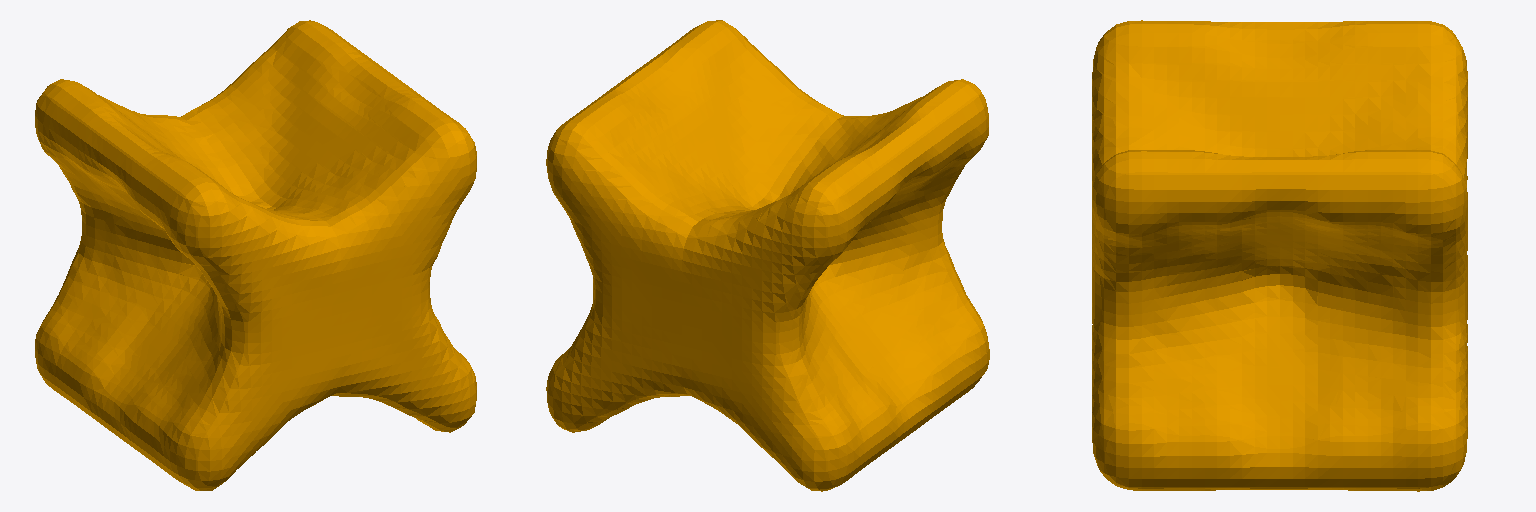
The robot description file, URDF, robot "object":
<?xml version="1.0"?>
        <robot name="object">
          <link name="object">
            <visual>
              <origin xyz="0.0 0.0 0.0"/>
              <geometry>
                <mesh filename="E1.stl" scale="1.00 1.00 1.00"/>
              </geometry>
            </visual>
            <collision>
              <origin xyz="0.0 0.0 0.0"/>
              <geometry>
                <mesh filename="E1.stl" scale="1.00 1.00 1.00"/>
              </geometry>
            </collision>
          </link>
        </robot>

--- Facts derived from the render (not from the file) ---
3 views of the same robot in one strip: view 1: azimuth 30°, elevation 25°; view 2: azimuth 150°, elevation 25°; view 3: azimuth 270°, elevation 25° (orthographic).
Robot: object — 1 links, 0 joints (none); root link object; default pose: every joint at zero.
Visible links, largest first — view 1: object; view 2: object; view 3: object.
Link boxes in pixels (bbox=[...]): object: bbox=[35, 20, 476, 490]; object: bbox=[546, 20, 989, 491]; object: bbox=[1092, 20, 1467, 491].
Size in the robot's own frame: 0.0999 by 0.0999 by 0.0985 metres.
1 mesh visuals loaded from 1 distinct referenced files (1 binary STL).